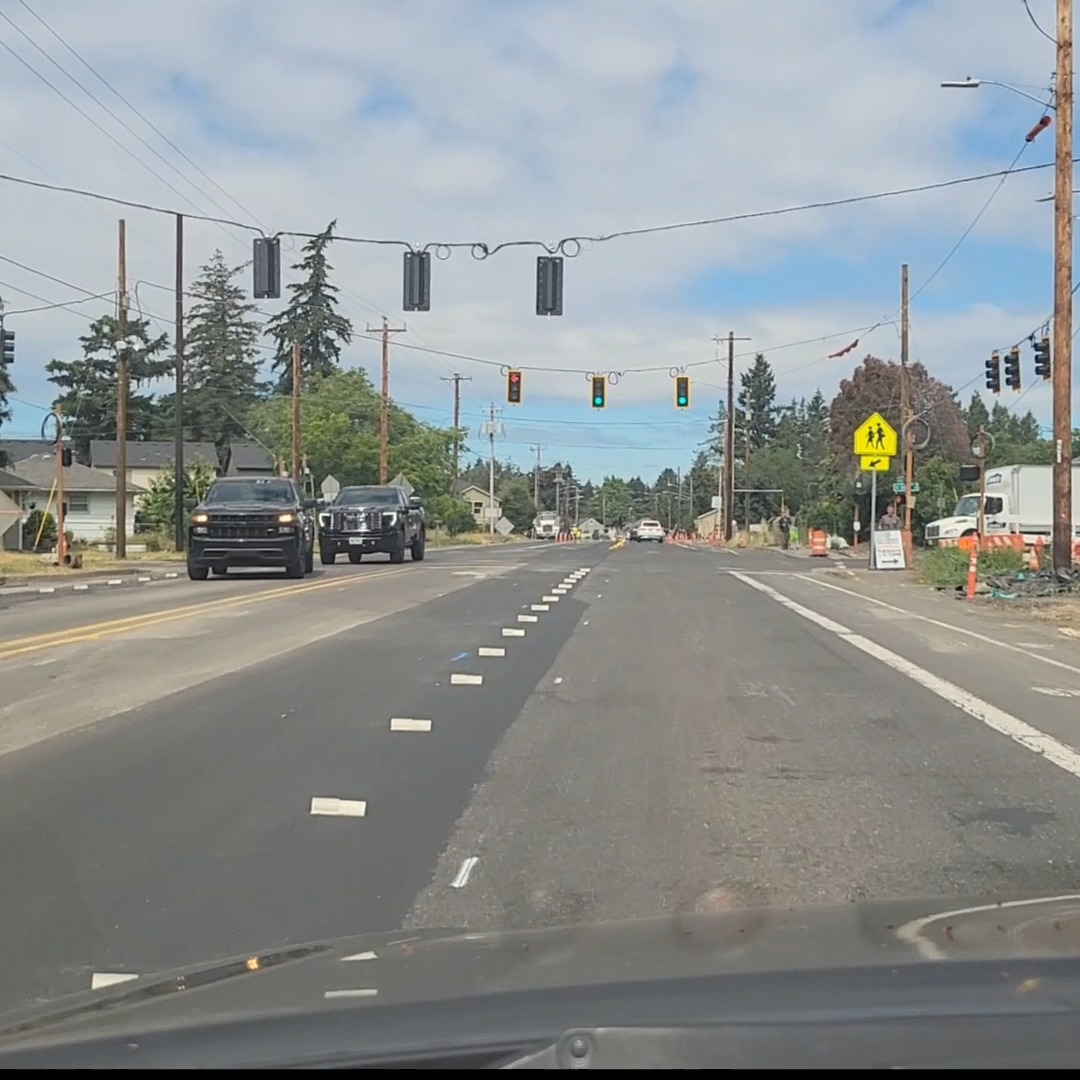car: (184, 476, 320, 579), (315, 484, 427, 564), (626, 518, 665, 542)
crosswalk-sign: (854, 411, 897, 458)
delineator: (966, 543, 978, 597)
